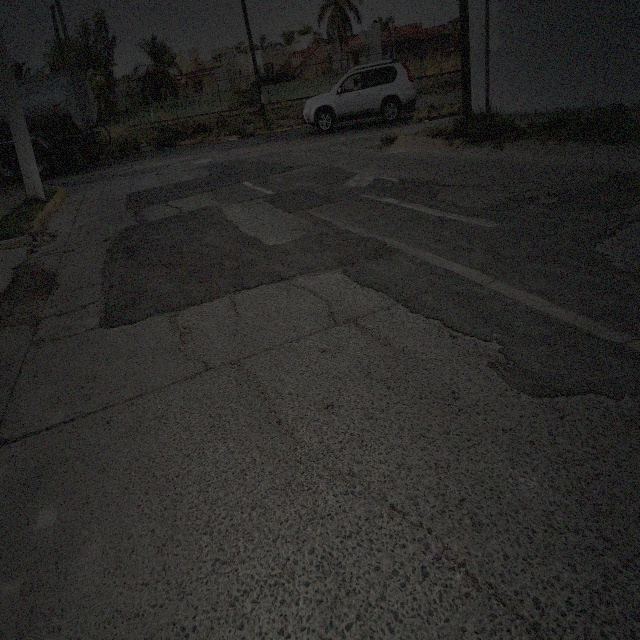pothole: (529, 192, 558, 208), (173, 320, 186, 348)
